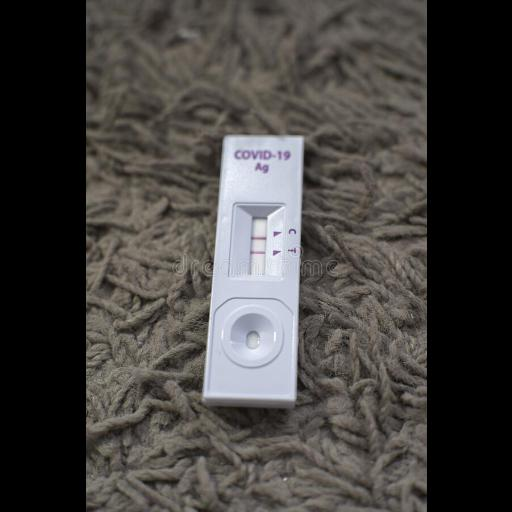Pos: (202, 132, 305, 405)
